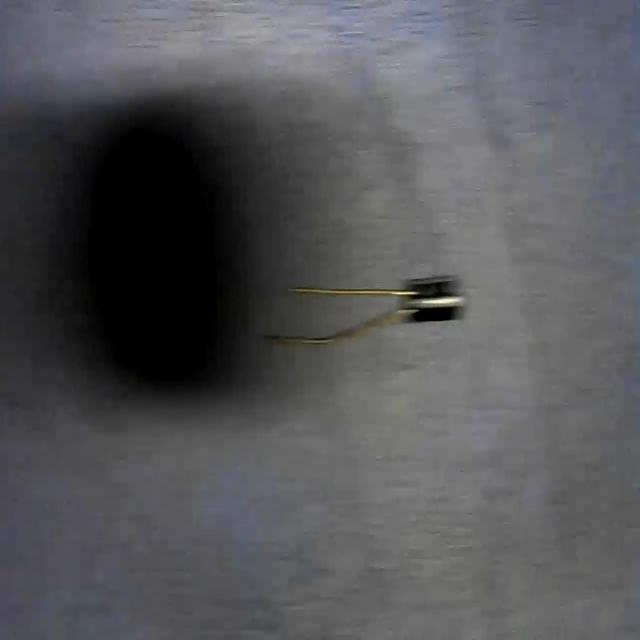capacitor: (261, 270, 465, 360)
